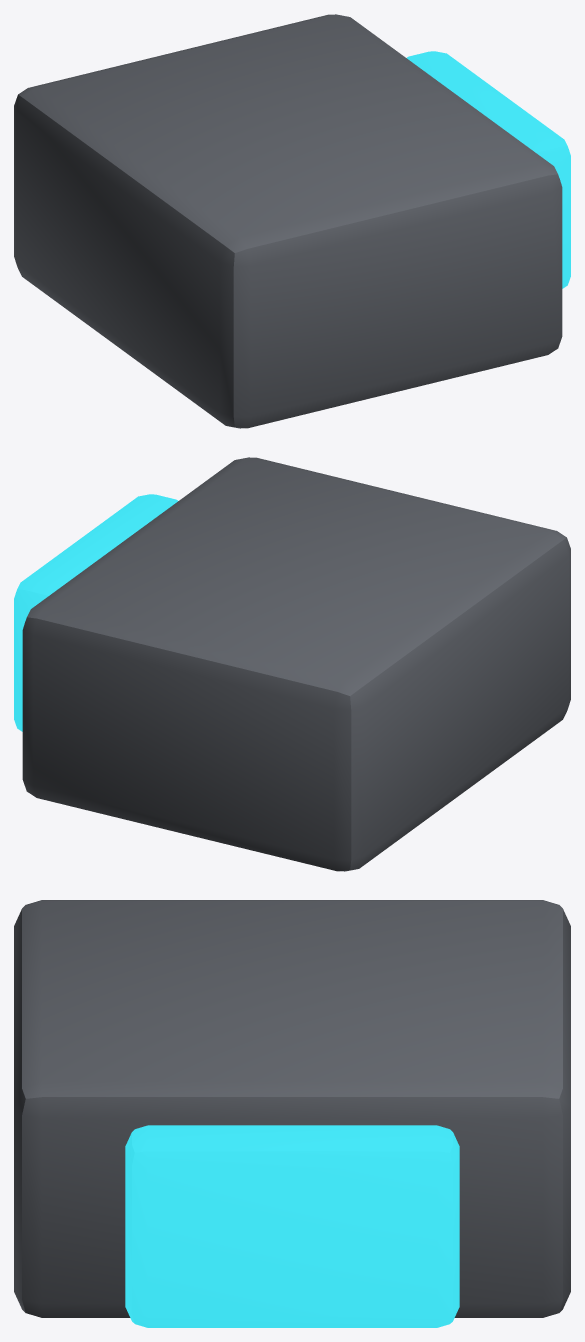
The model's file is cell_iskra9.glb.
3 renders of one model, top to bottom at view 1: azimuth 30°, elevation 25°; view 2: azimuth 150°, elevation 25°; view 3: azimuth 270°, elevation 25°, orthographic. The views are drawn at different scales.
Parts seen in each view (by area): view 1: cell_iskra9_body, cell_iskra9_strip; view 2: cell_iskra9_body, cell_iskra9_strip; view 3: cell_iskra9_body, cell_iskra9_strip.
Part boxes in pixels (bbox=[...]): cell_iskra9_body: bbox=[14, 14, 562, 428]; cell_iskra9_strip: bbox=[407, 51, 570, 288]; cell_iskra9_body: bbox=[22, 457, 570, 871]; cell_iskra9_strip: bbox=[14, 494, 177, 731]; cell_iskra9_body: bbox=[14, 900, 570, 1317]; cell_iskra9_strip: bbox=[125, 1125, 459, 1327].
Size of the model in its own units: 0.03 by 0.014 by 0.03.
